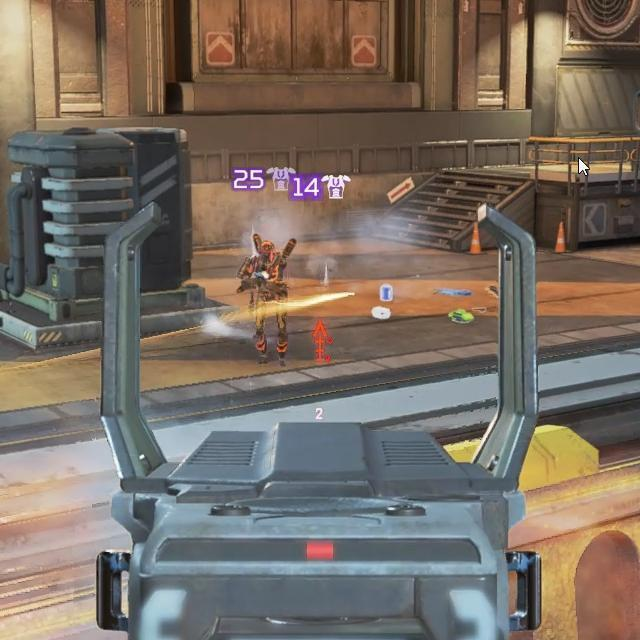avatar: (235, 233, 297, 368)
